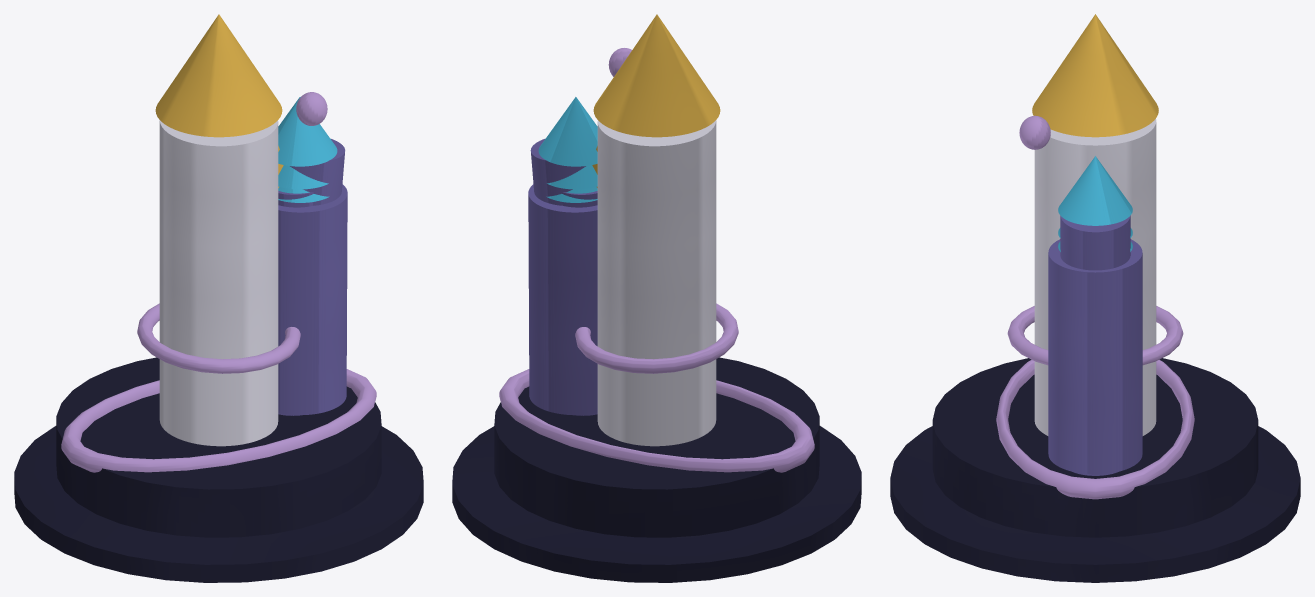
Rendered from 0552_岩石矿物图鉴_星光红宝石.glb.
3 views of the same model, side by side, from view 1: azimuth 30°, elevation 25°; view 2: azimuth 150°, elevation 25°; view 3: azimuth 270°, elevation 25° (orthographic).
Parts seen in each view (by area): view 1: card_0552; view 2: card_0552; view 3: card_0552.
Part boxes in pixels (x1,y1,x2,y2): card_0552: [14, 14, 423, 582]; card_0552: [452, 14, 861, 582]; card_0552: [890, 14, 1300, 582].
Bounding box in the file's own units: 0.7712 × 1 × 0.7712.
